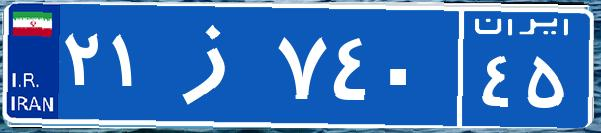0: (385, 28, 445, 110)
1: (110, 28, 158, 105)
2: (57, 26, 110, 107)
4: (330, 28, 385, 110), (475, 38, 525, 113)
5: (525, 38, 570, 115)
7: (273, 28, 330, 110)
ز: (158, 15, 273, 115)
